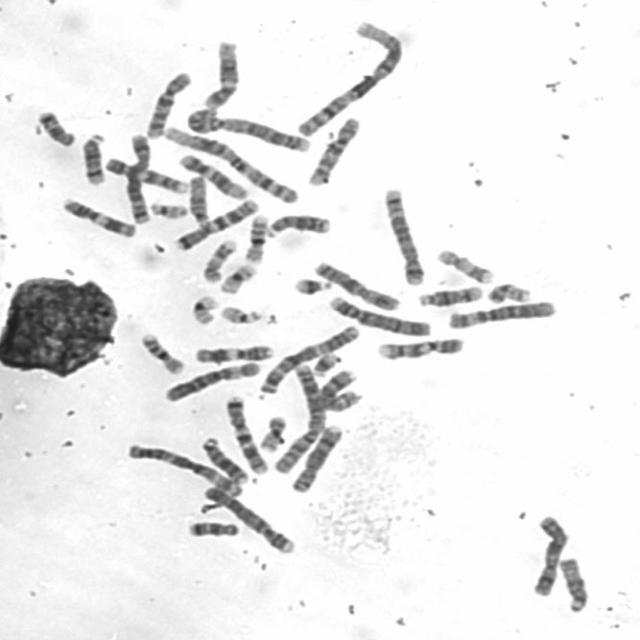A1: (291, 16, 408, 138), (158, 121, 302, 206)
A2: (271, 357, 329, 474), (183, 103, 313, 153)
A3: (254, 321, 362, 396), (121, 438, 246, 496)
B4: (198, 481, 298, 555), (324, 290, 434, 338)
B5: (379, 183, 427, 286), (122, 130, 154, 224)
C10: (304, 112, 364, 188), (141, 66, 195, 140)
C11: (58, 193, 139, 239), (189, 340, 277, 365)
C12: (174, 150, 250, 200), (198, 35, 242, 110)
C6: (159, 356, 263, 403), (442, 296, 558, 331)
C7: (170, 195, 260, 252), (222, 390, 272, 474)
C8: (287, 420, 346, 494), (292, 360, 364, 414)
C9: (99, 153, 189, 195), (372, 332, 468, 362)
D13: (197, 432, 250, 485), (262, 209, 333, 239)
D14: (414, 281, 486, 308), (77, 128, 108, 186)
D15: (555, 553, 591, 615), (185, 172, 214, 228)
E16: (135, 327, 187, 376), (240, 210, 270, 264)
E17: (433, 243, 497, 284), (199, 235, 239, 284)
E18: (32, 105, 78, 148), (184, 516, 242, 538)
F19: (215, 260, 260, 295), (186, 291, 221, 327)
F20: (254, 410, 290, 452), (482, 278, 534, 304)
G21: (289, 272, 335, 297), (308, 348, 343, 377)
G22: (216, 301, 266, 325), (146, 197, 189, 220)
X: (310, 256, 404, 312), (527, 511, 571, 598)
